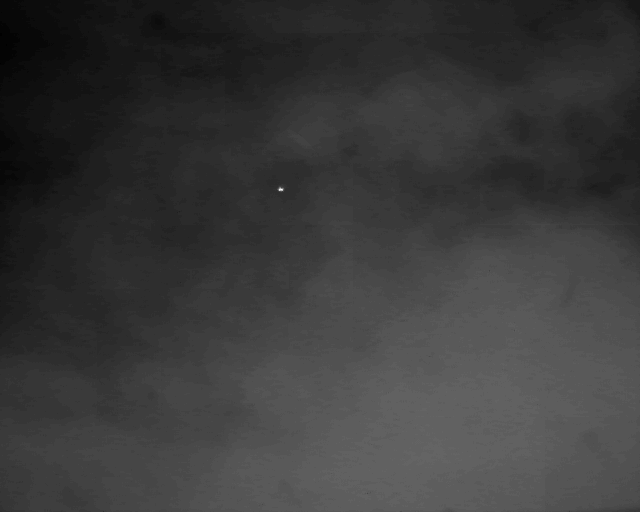Target: (278, 185, 286, 193)
